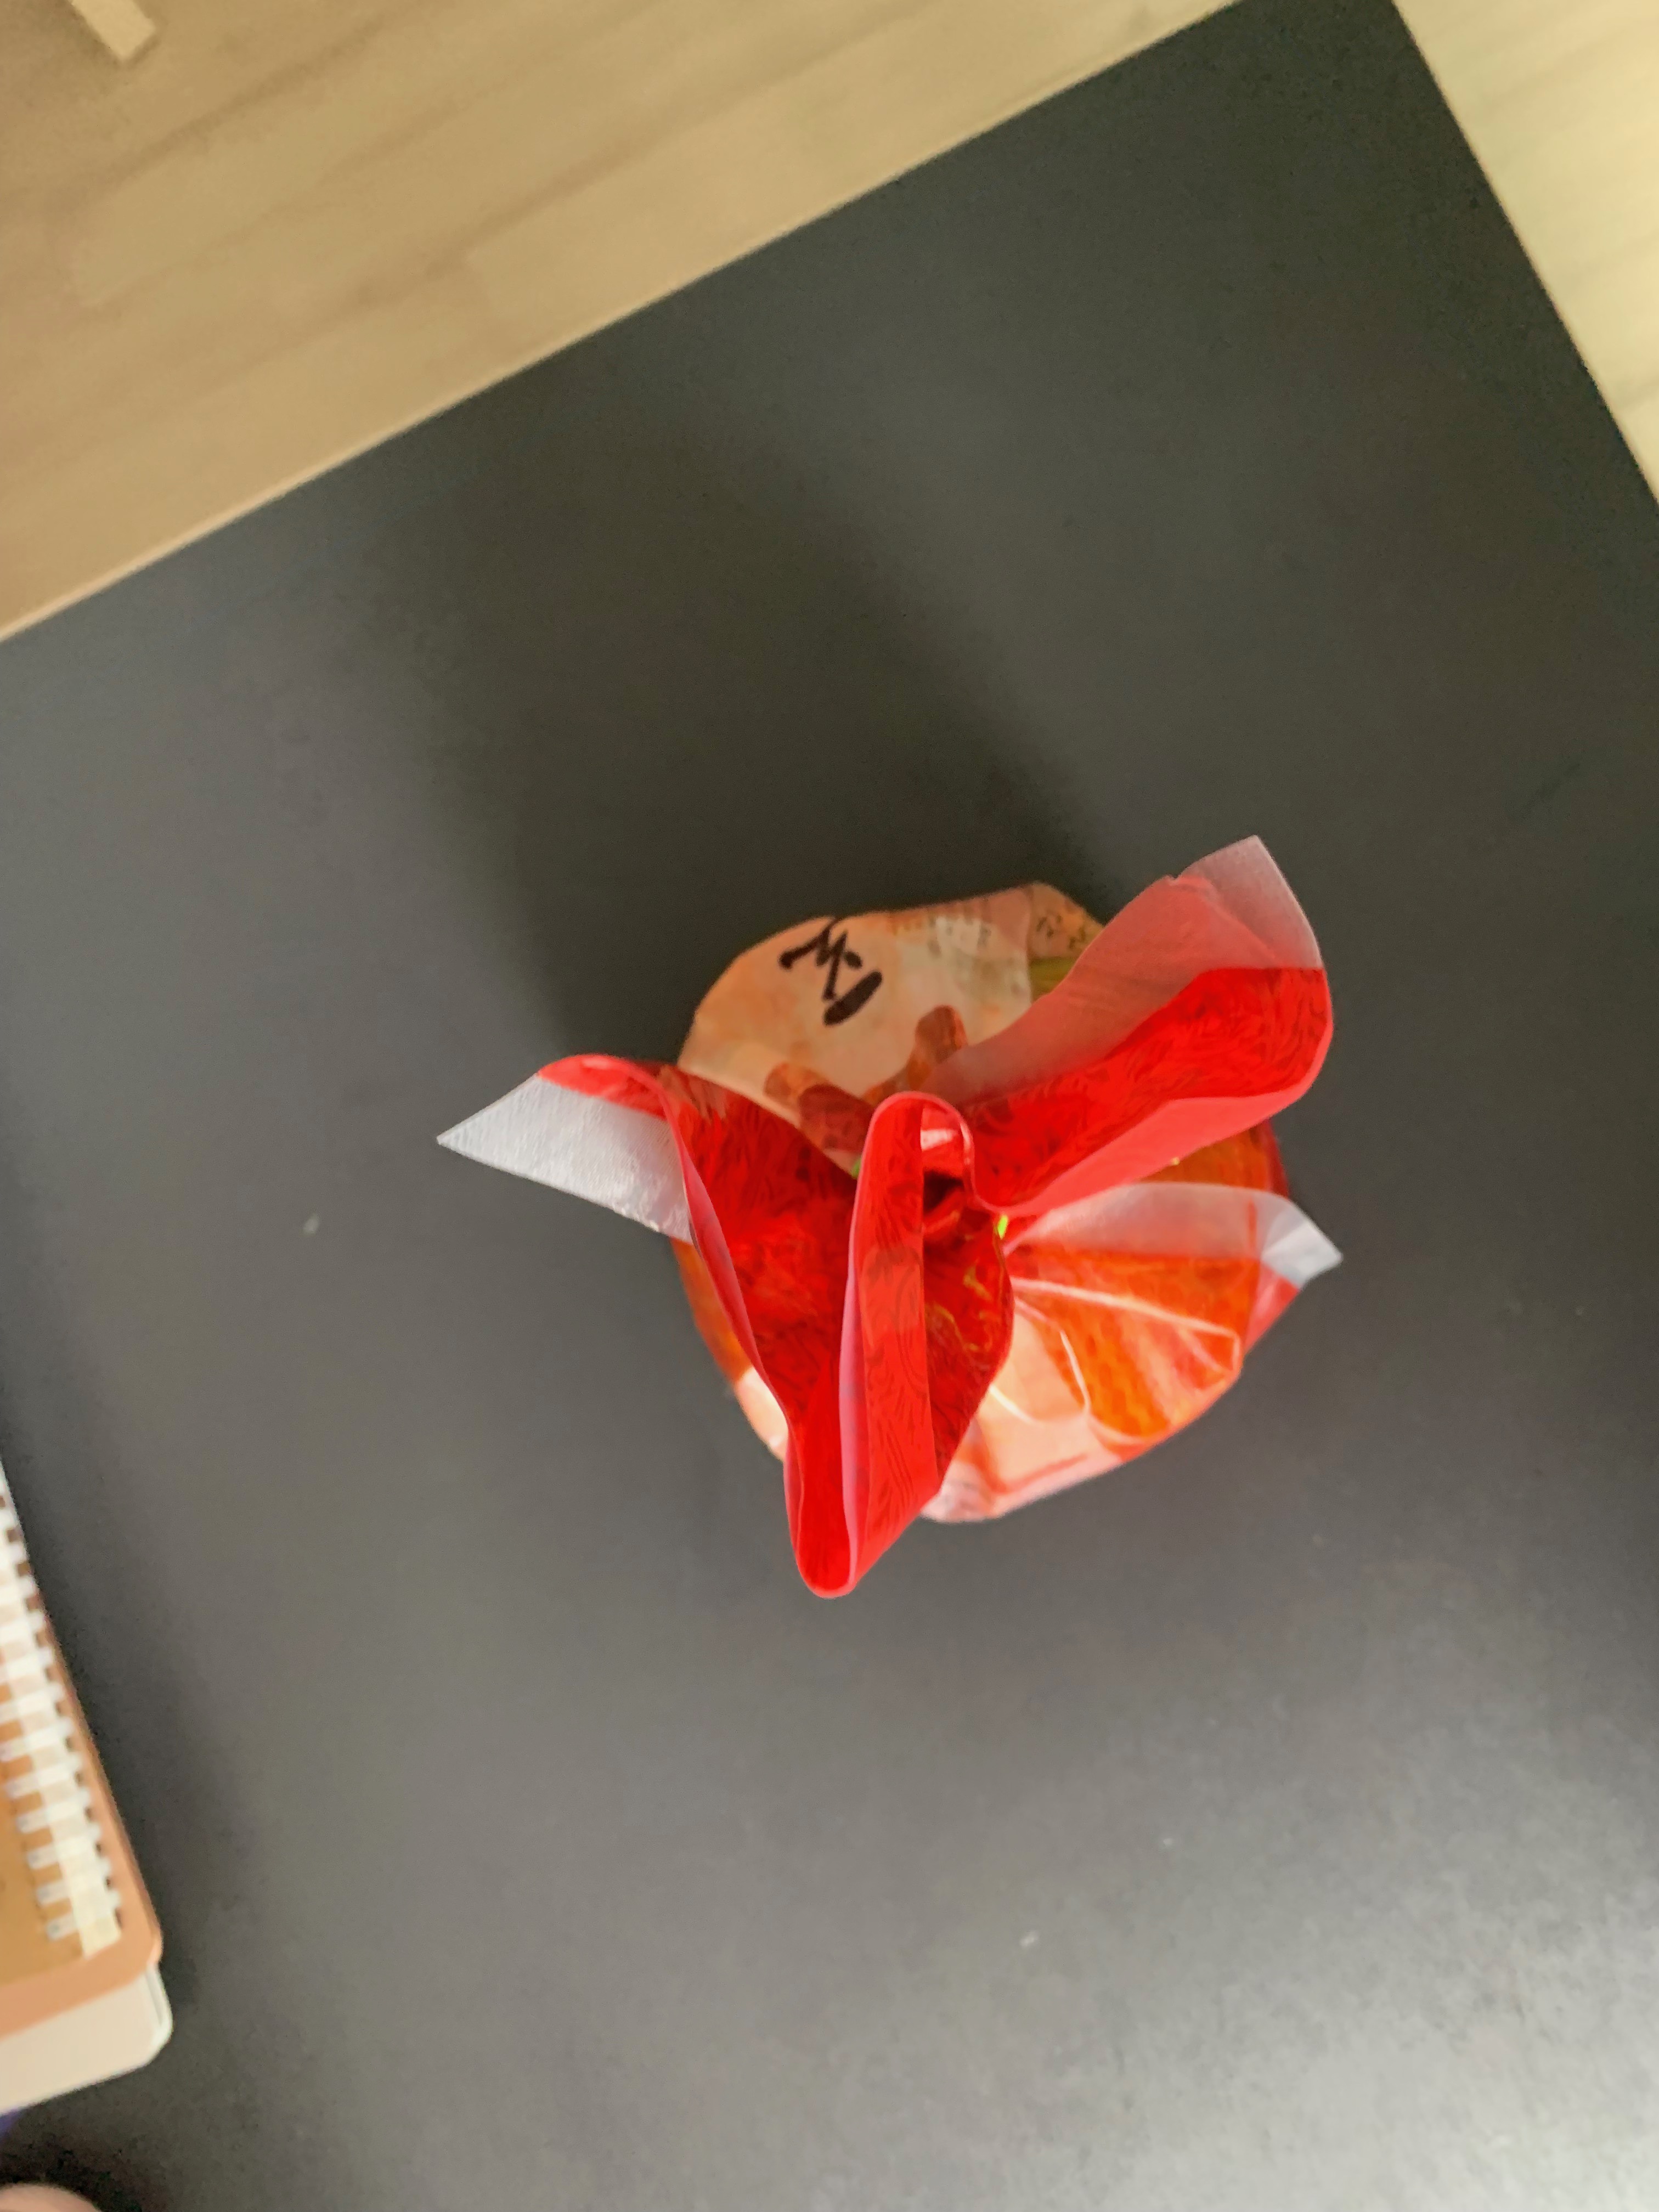kimchi: (537, 881, 1337, 1597)
